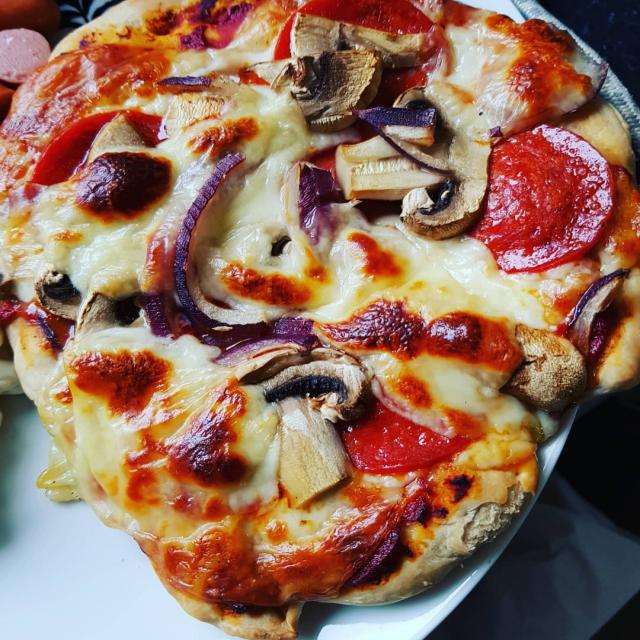mushrooms: (338, 82, 488, 244), (259, 360, 374, 504), (285, 14, 435, 122), (228, 338, 368, 418), (28, 272, 140, 344), (512, 320, 586, 412), (160, 92, 247, 138)
pepperoni: (492, 126, 616, 277), (23, 104, 169, 182), (343, 397, 492, 469)
pizza: (0, 0, 640, 640)
